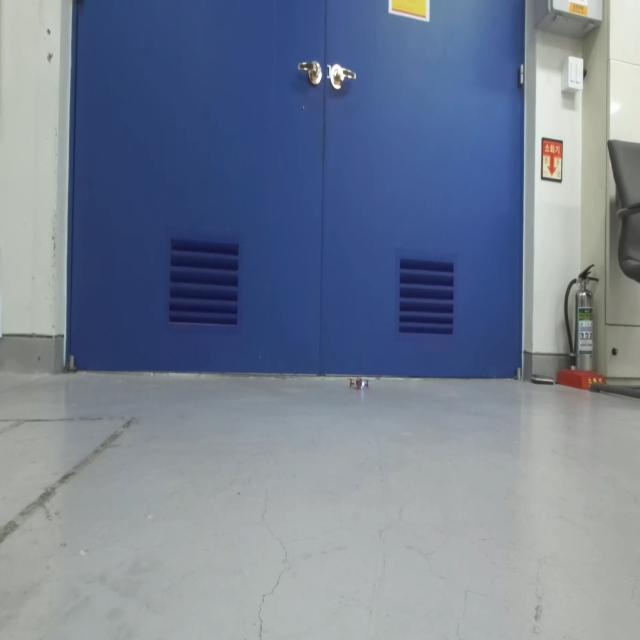crazyflie: (346, 372, 372, 397)
